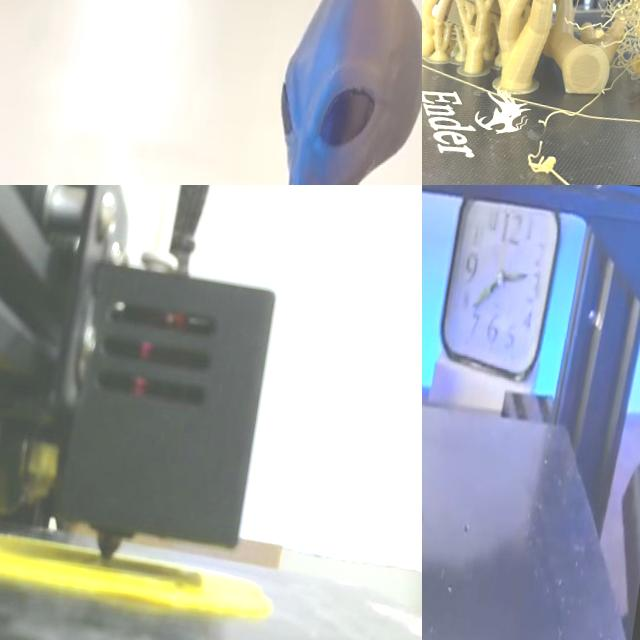spaghetti: (547, 0, 640, 138), (424, 136, 640, 185)
